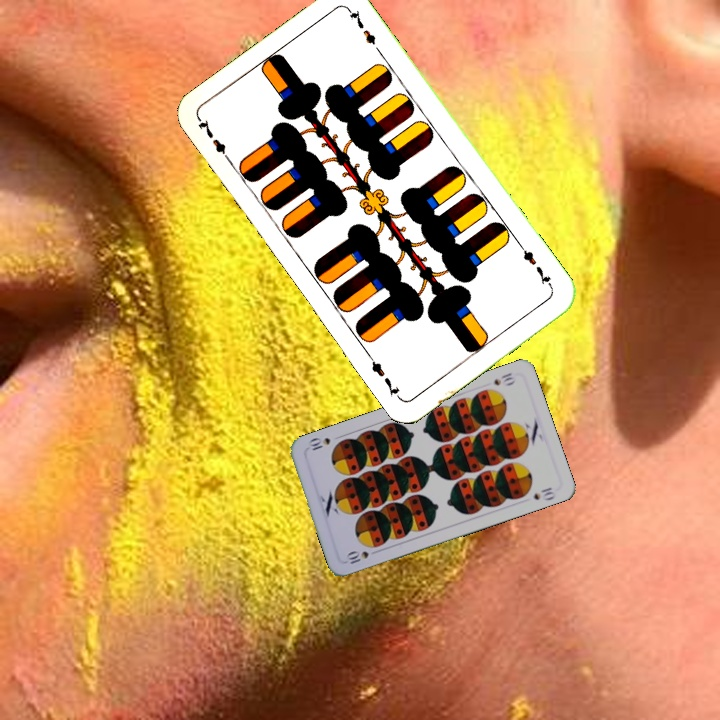E7: (515, 240, 555, 291), (194, 115, 234, 166)
S10: (342, 547, 371, 567), (490, 368, 518, 388)
